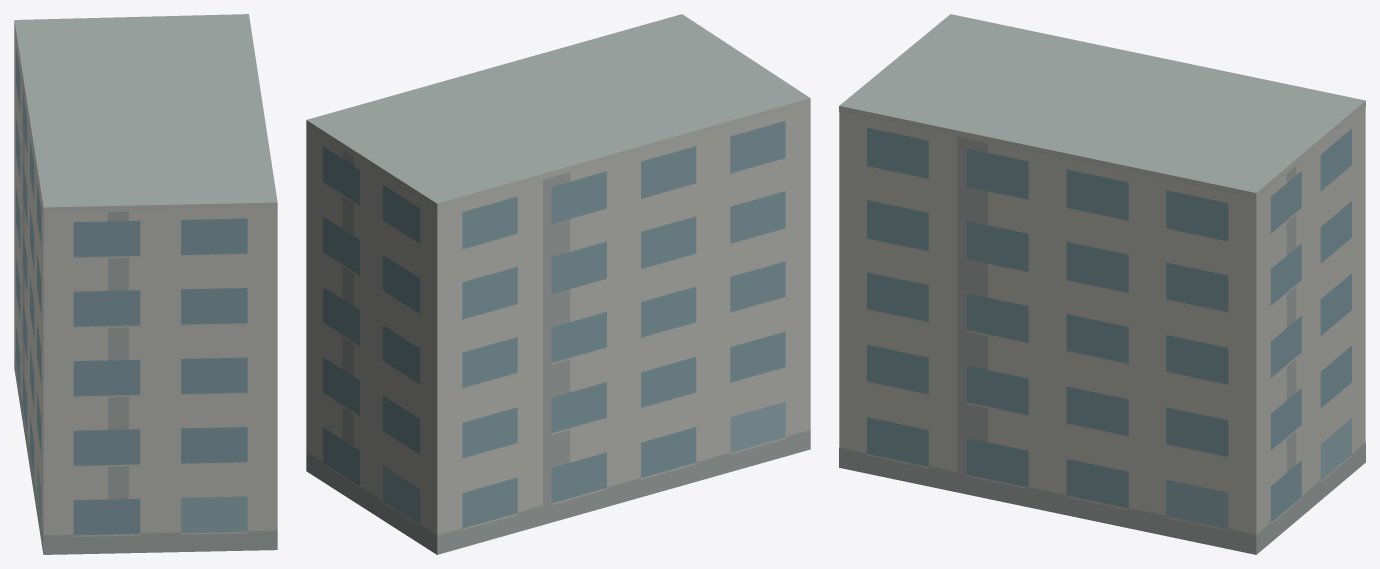
Rendered from survey-upis-32889590.glb.
The picture shows the model from 3 angles, left to right: view 1: azimuth 30°, elevation 25°; view 2: azimuth 150°, elevation 25°; view 3: azimuth 270°, elevation 25°; orthographic projection. The views are drawn at different scales.
Visible parts, largest first — view 1: survey-upis-32889590.tmp; view 2: survey-upis-32889590.tmp; view 3: survey-upis-32889590.tmp.
Boxes of the visible parts, x1,y1,x2,y2 form: survey-upis-32889590.tmp: (14, 14, 277, 554); survey-upis-32889590.tmp: (306, 14, 810, 554); survey-upis-32889590.tmp: (839, 14, 1365, 554).
Size of the model in its own units: 14.97 by 14.1 by 18.61.
